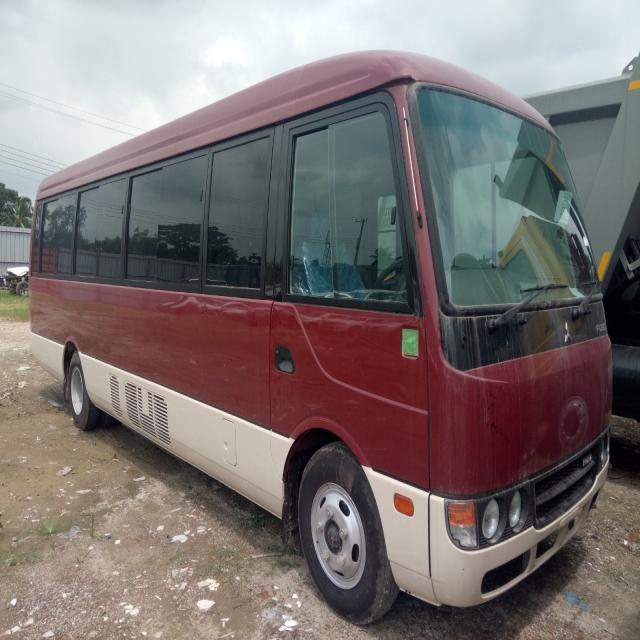bus: (8, 29, 626, 640)
